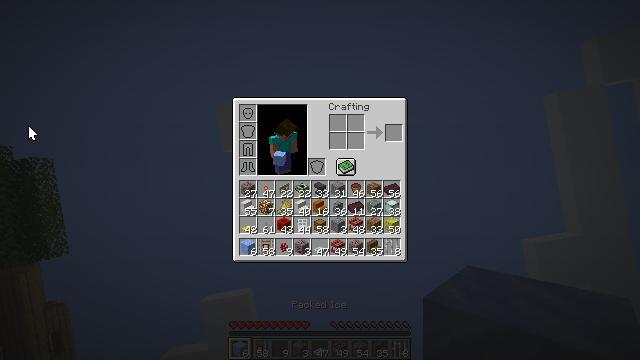cursor: (28, 125, 38, 141)
